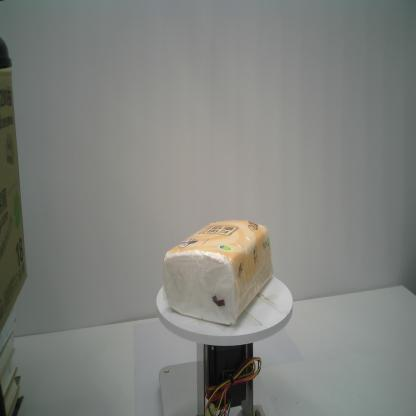Tissue: (161, 218, 275, 326)
